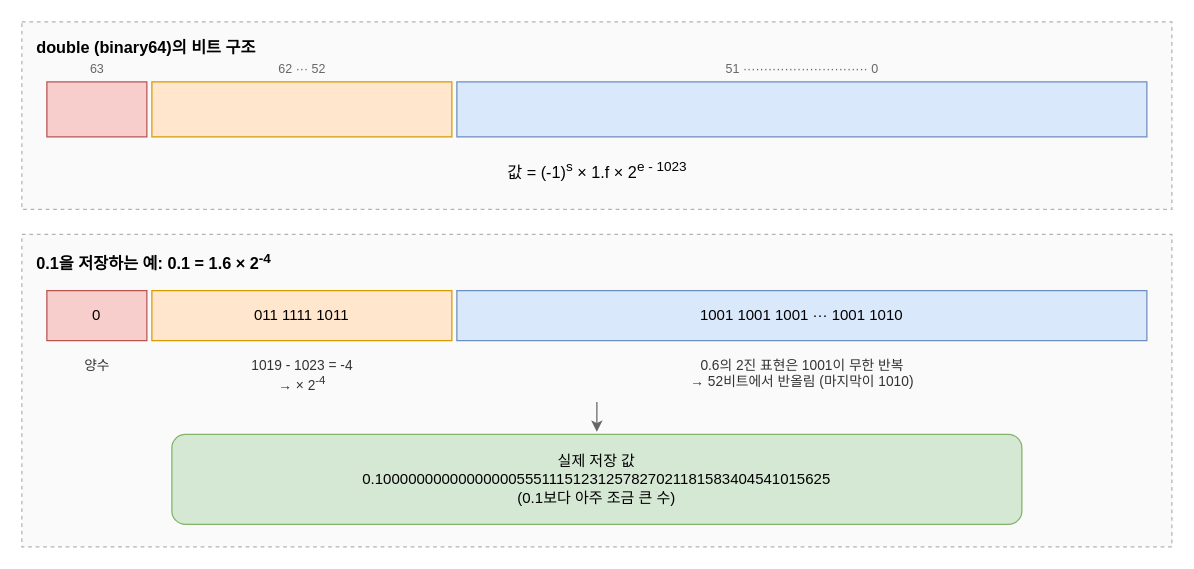
The diagram is 1194 pixels wide and 569 high, and some of its shapes have lost their labels. The shapes that lost their labels are listed below. From the top down, each one's centre as x and y in pixels, then its label:
(x=96, y=109): 부호 s (1비트)
(x=301, y=109): 지수 e (11비트)
(x=801, y=109): 가수 f (52비트)
